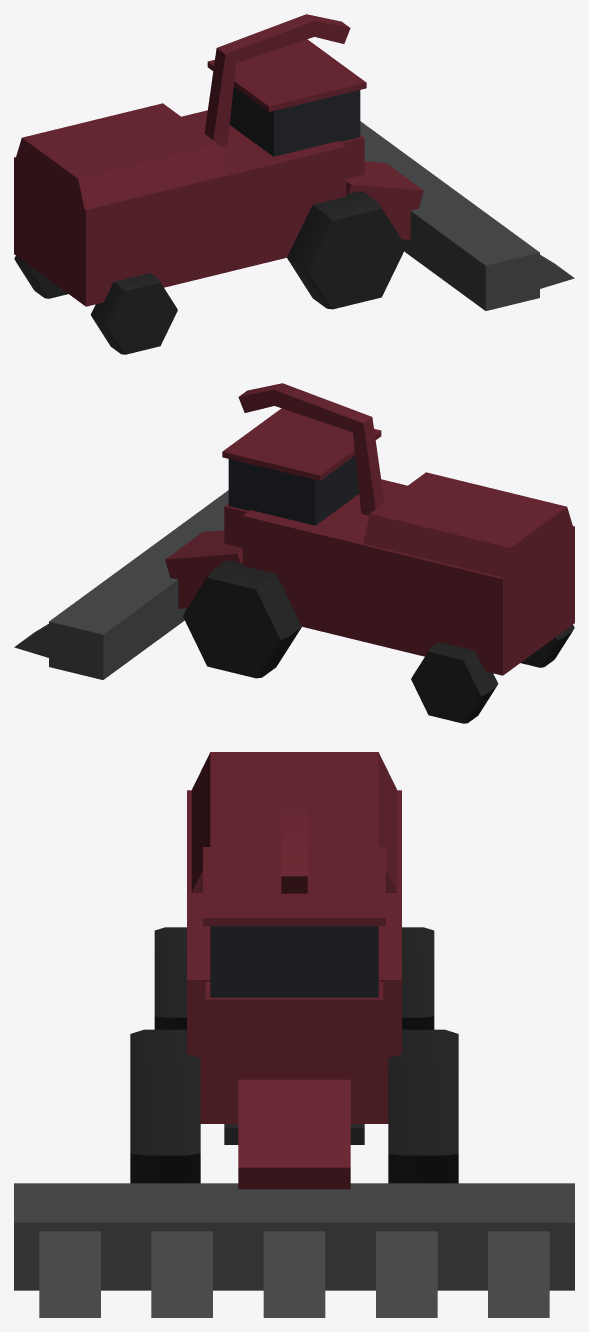
The model's file is SM_Prop_farm_forager_1_LOD2.glb.
3 renders of one model, top to bottom at view 1: azimuth 30°, elevation 25°; view 2: azimuth 150°, elevation 25°; view 3: azimuth 270°, elevation 25°, orthographic. The views are drawn at different scales.
Visible parts, largest first — view 1: SM_Prop_farm_forager_1_LOD2; view 2: SM_Prop_farm_forager_1_LOD2; view 3: SM_Prop_farm_forager_1_LOD2.
Boxes of the visible parts, x1,y1,x2,y2 form: SM_Prop_farm_forager_1_LOD2: (14,14,574,354); SM_Prop_farm_forager_1_LOD2: (14,383,574,723); SM_Prop_farm_forager_1_LOD2: (14,752,574,1317).
Bounding box in the file's own units: 8.1 × 4.37 × 6.
